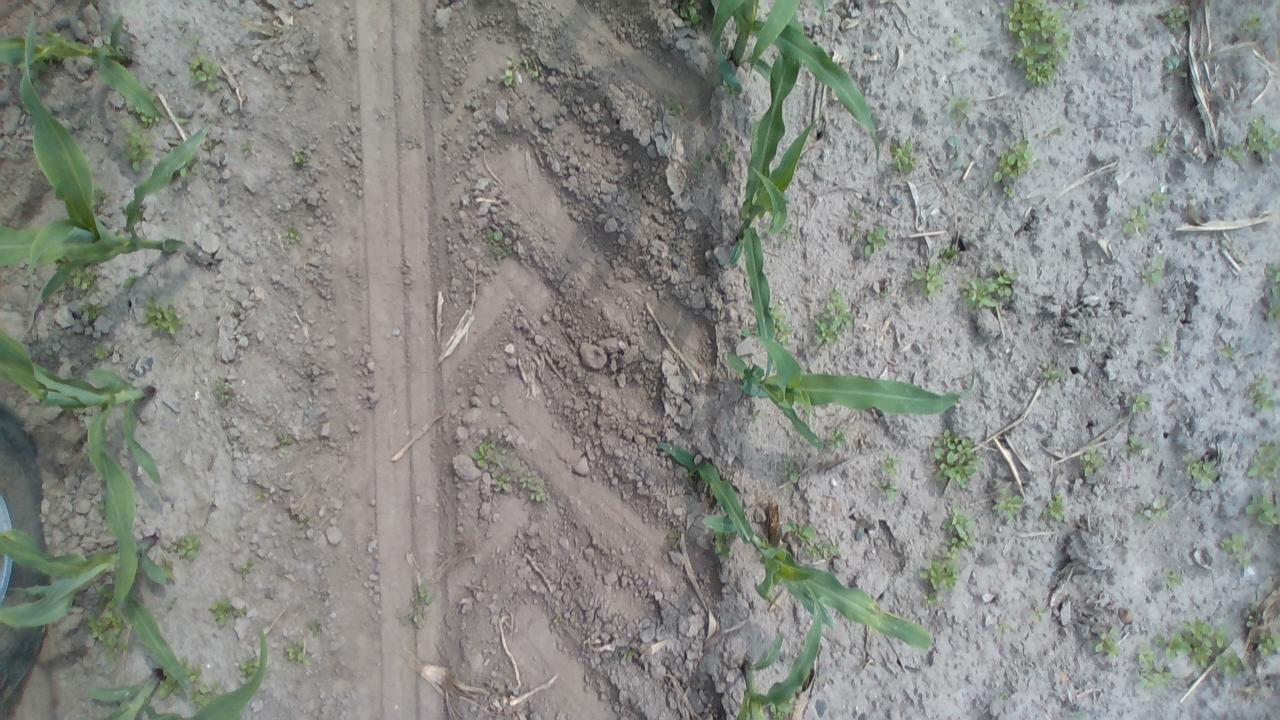Maize: (0, 12, 214, 332), (690, 457, 939, 654), (0, 331, 163, 619), (729, 0, 826, 382), (705, 1, 883, 176), (723, 327, 975, 450), (0, 9, 197, 128), (0, 524, 172, 630), (730, 580, 826, 718), (164, 619, 268, 720), (84, 666, 166, 720)
Weeds: (1134, 619, 1242, 693), (1002, 2, 1074, 88), (920, 507, 976, 606), (68, 582, 134, 664), (472, 440, 546, 503), (925, 427, 984, 491), (1217, 116, 1278, 162), (960, 268, 1019, 310), (992, 140, 1034, 198), (175, 653, 218, 707), (812, 289, 848, 347), (118, 118, 154, 172), (782, 522, 834, 558), (740, 306, 792, 342), (140, 298, 185, 335), (186, 50, 221, 95), (1244, 444, 1278, 482), (1245, 491, 1278, 528), (986, 494, 1024, 526), (498, 54, 536, 86), (1260, 264, 1280, 324), (1242, 380, 1273, 416), (910, 264, 947, 294), (1094, 626, 1120, 664), (886, 140, 912, 176), (206, 601, 246, 624), (484, 229, 513, 260), (1184, 458, 1216, 486), (1079, 448, 1106, 481), (859, 229, 886, 261), (1217, 533, 1250, 559), (1122, 203, 1146, 238), (1254, 630, 1280, 660), (819, 424, 846, 452), (67, 268, 98, 292), (1238, 9, 1268, 32), (1132, 505, 1170, 523), (710, 533, 732, 564), (174, 534, 198, 562), (238, 660, 262, 688), (284, 640, 312, 664), (1043, 495, 1067, 523), (659, 92, 682, 120), (943, 138, 962, 170), (1040, 365, 1067, 386), (717, 144, 737, 172), (944, 93, 968, 116), (88, 181, 108, 207), (214, 377, 233, 404), (1140, 252, 1158, 279), (1127, 397, 1150, 418), (1124, 436, 1152, 452), (1167, 10, 1190, 29), (947, 30, 966, 52), (1146, 190, 1170, 207), (876, 485, 900, 502), (936, 245, 960, 262), (397, 613, 423, 628), (678, 9, 704, 24), (695, 149, 710, 175), (412, 589, 432, 608), (878, 458, 901, 474), (1148, 139, 1167, 158), (272, 428, 291, 447), (620, 648, 638, 668), (783, 462, 800, 483), (1152, 339, 1170, 358), (1162, 54, 1180, 72), (305, 618, 323, 636), (1160, 574, 1180, 589), (279, 230, 301, 243), (91, 346, 108, 360), (1220, 344, 1234, 360), (240, 138, 250, 158), (994, 618, 1007, 632), (1032, 614, 1050, 624), (292, 152, 305, 164)
